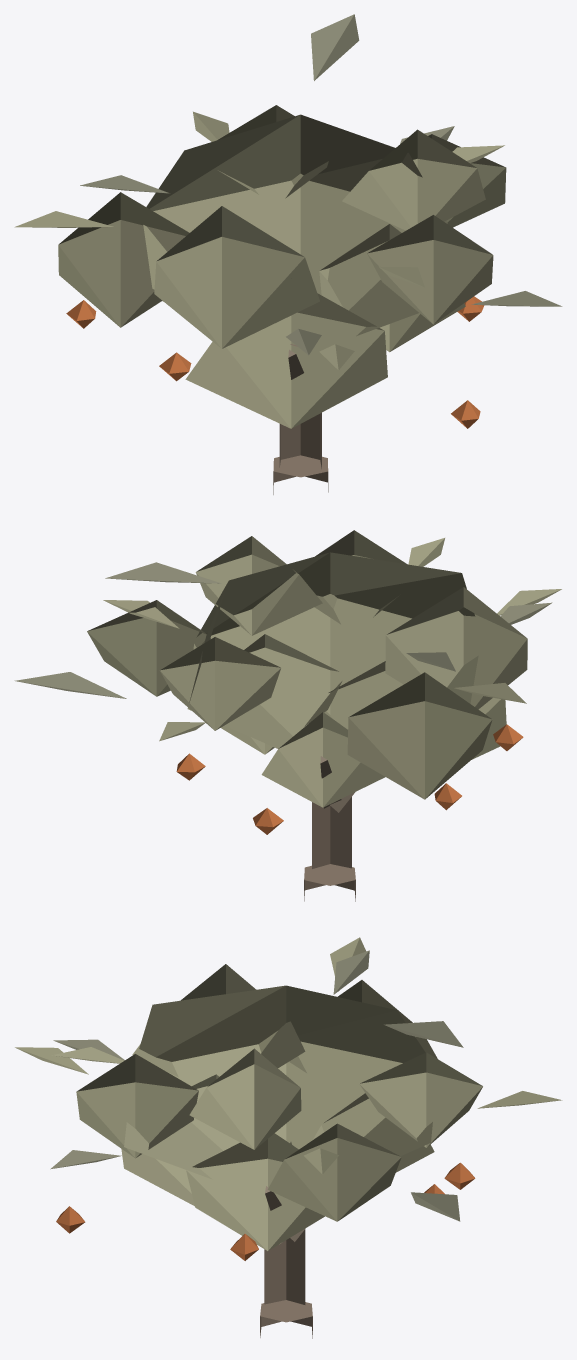
The model's file is shu.ganju__winter.glb.
The picture shows the model from 3 angles, top to bottom: view 1: azimuth 30°, elevation 25°; view 2: azimuth 150°, elevation 25°; view 3: azimuth 270°, elevation 25°; orthographic projection. The views are drawn at different scales.
Parts seen in each view (by area): view 1: shu.ganju__winter; view 2: shu.ganju__winter; view 3: shu.ganju__winter.
Part boxes in pixels (x1,y1,x2,y2): shu.ganju__winter: (14,14,562,494); shu.ganju__winter: (14,530,561,901); shu.ganju__winter: (15,937,562,1338).
Size of the model in its own units: 7.1 by 5.12 by 7.18.
